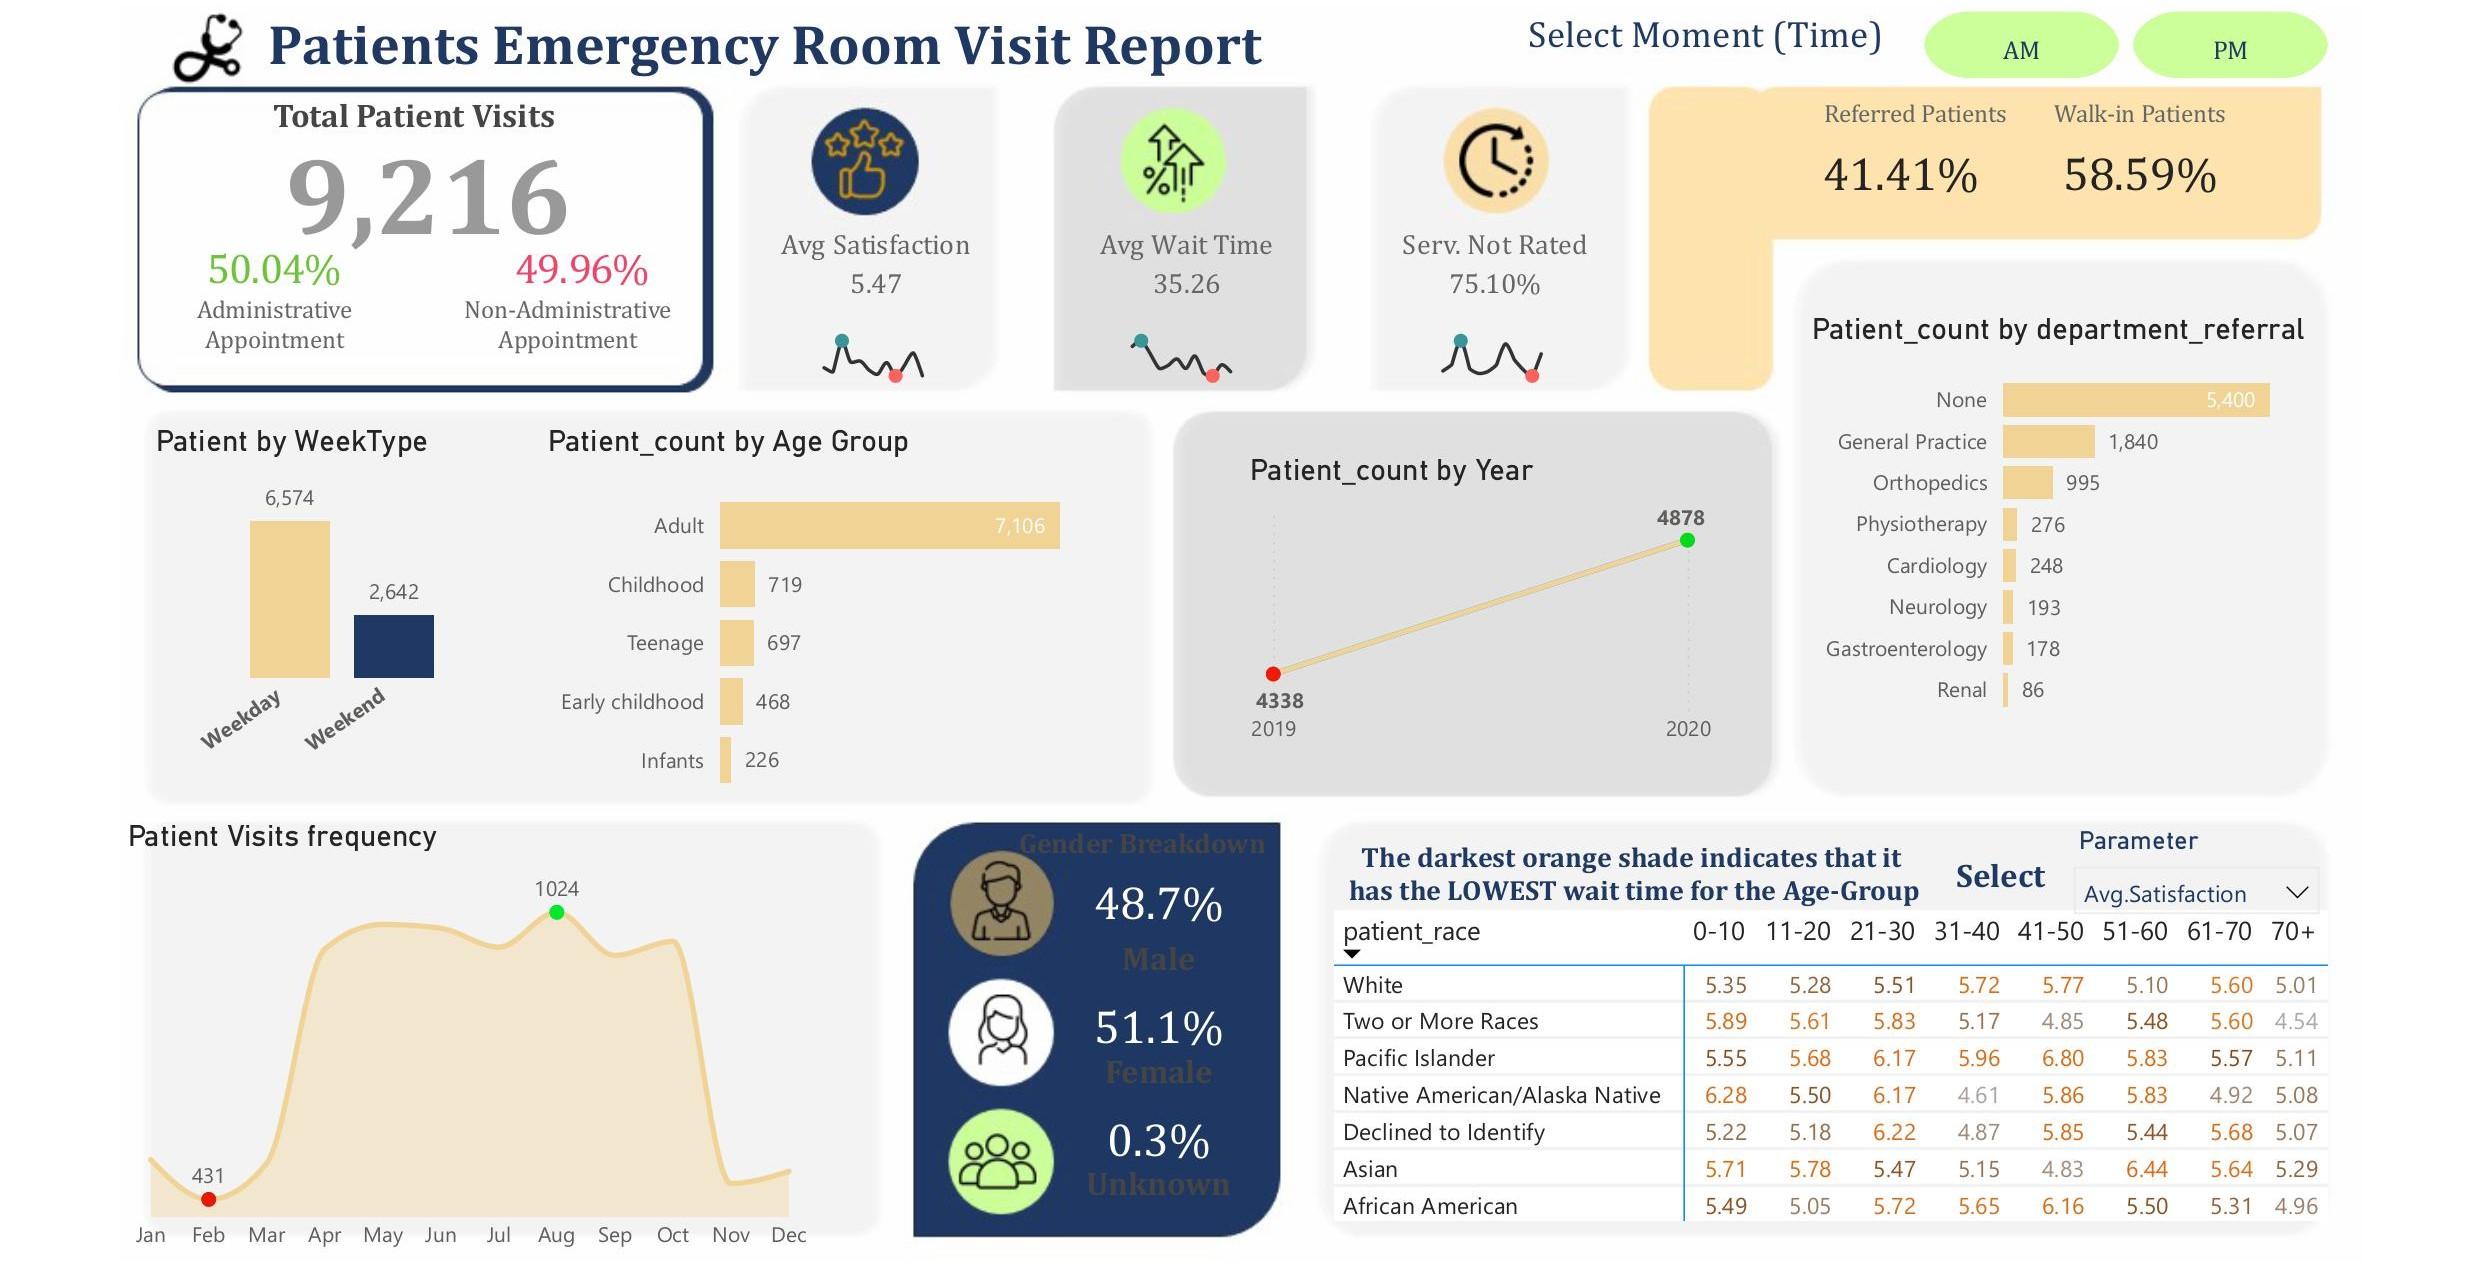

This screenshot's page, from the dashboard's own definition file:
{"tool":"powerbi","page":{"name":"Raw dashboard","canvas":[1280,720],"ordinal":0},"visuals":[{"type":"card","fields":{"Values":["Calculations.Measure"]},"box":[0,0,224,224],"z":0},{"type":"card","fields":{"Values":["Calculations.%Administrative Schedule"]},"box":[224,0,256,112],"z":1000},{"type":"card","fields":{"Values":["Calculations.%None - Administrative Schedule"]},"box":[784,112,256,112],"z":2000},{"type":"card","fields":{"Values":["Calculations.Average Satisfaction Score"]},"box":[480,0,224,112],"z":3000},{"type":"card","fields":{"Values":["Calculations.% No Rating"]},"box":[720,0,208,112],"z":4000},{"type":"card","fields":{"Values":["Calculations.Average Wait Time"]},"box":[688,272,192,112],"z":5000},{"type":"pivotTable","fields":{"Values":["Calculations.Average Satisfaction Score"],"Rows":["Information about patients.patient_race"],"Columns":["Information about patients.Age Buckets"]},"box":[720,528,560,176],"z":6000},{"type":"slicer","fields":{"Values":["Parameter.Parameter"]},"box":[1056,416,224,96],"z":7000},{"type":"clusteredBarChart","fields":{"Category":["Information about patients.Age Group"],"Y":["Calculations.Patient_count"]},"box":[0,464,352,256],"z":8000},{"type":"lineChart","title":"Patient Visits frequency","fields":{"Category":["Date.Month"],"Y":["Calculations.Patient_count","Calculations.Values Max Point(Month)"]},"box":[240,144,448,256],"z":9000},{"type":"slicer","fields":{"Values":["Information about patients.Moment"]},"box":[608,624,112,96],"z":10000},{"type":"lineChart","title":"Patient_count by Year","fields":{"Category":["Date.Year"],"Y":["Calculations.Patient_count","Calculations.Values Max Point(Year)"]},"box":[352,528,256,192],"z":11000},{"type":"clusteredBarChart","fields":{"Y":["Calculations.Patient_count"],"Category":["Information about patients.department_referral"]},"box":[1056,0,224,240],"z":12000},{"type":"card","fields":{"Values":["Calculations.% Referred Patients"]},"box":[880,272,208,112],"z":13000},{"type":"card","fields":{"Values":["Calculations.% Un referred Patients"]},"box":[1088,256,192,112],"z":14000},{"type":"card","fields":{"Values":["Calculations.HeatMap Caption"]},"box":[608,416,432,112],"z":15000}]}

Visuals, with their boxes on the page's 1280x720 design canvas (x1, y1, x2, y2). These are canvas units, not pixel positions in the 2479x1264 screenshot, which may show the page scaled, cropped or inside an application window:
card - Calculations.Measure: l=0, t=0, r=224, b=224
card - Calculations.%Administrative Schedule: l=224, t=0, r=480, b=112
card - Calculations.%None - Administrative Schedule: l=784, t=112, r=1040, b=224
card - Calculations.Average Satisfaction Score: l=480, t=0, r=704, b=112
card - Calculations.% No Rating: l=720, t=0, r=928, b=112
card - Calculations.Average Wait Time: l=688, t=272, r=880, b=384
pivotTable - Calculations.Average Satisfaction Score x Information about patients.patient_race: l=720, t=528, r=1280, b=704
slicer - Parameter.Parameter: l=1056, t=416, r=1280, b=512
clusteredBarChart - Information about patients.Age Group x Calculations.Patient_count: l=0, t=464, r=352, b=720
"Patient Visits frequency" lineChart: l=240, t=144, r=688, b=400
slicer - Information about patients.Moment: l=608, t=624, r=720, b=720
"Patient_count by Year" lineChart: l=352, t=528, r=608, b=720
clusteredBarChart - Calculations.Patient_count x Information about patients.department_referral: l=1056, t=0, r=1280, b=240
card - Calculations.% Referred Patients: l=880, t=272, r=1088, b=384
card - Calculations.% Un referred Patients: l=1088, t=256, r=1280, b=368
card - Calculations.HeatMap Caption: l=608, t=416, r=1040, b=528
